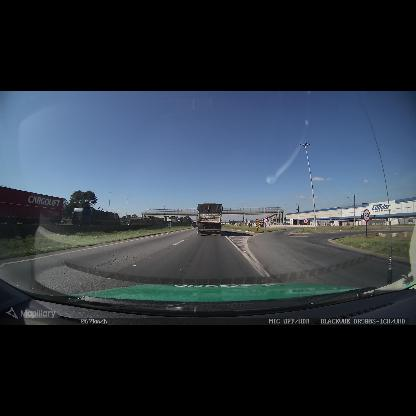O-MP: (255, 218, 259, 228)
R-19: (363, 209, 370, 222), (303, 219, 308, 224), (263, 219, 268, 223)
